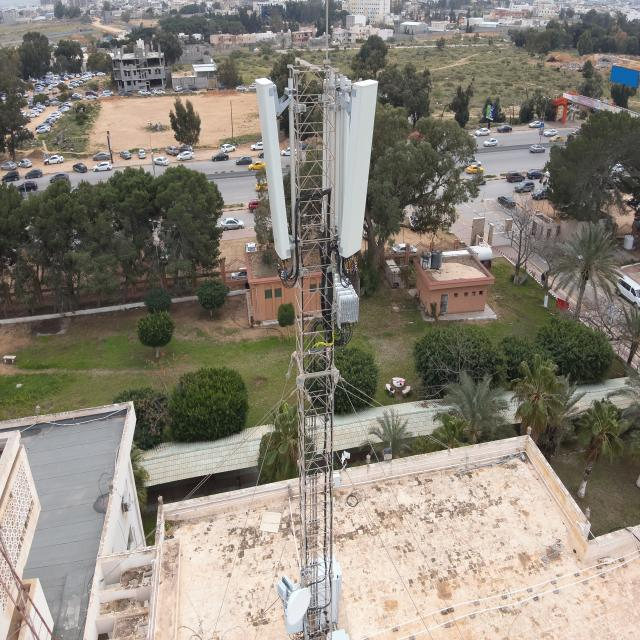antenna: (337, 79, 378, 257), (254, 73, 291, 261), (322, 78, 348, 229)
lighnig-rad: (322, 0, 331, 64)
microware-dish: (276, 573, 313, 627)
radio-unit: (330, 271, 359, 329)
